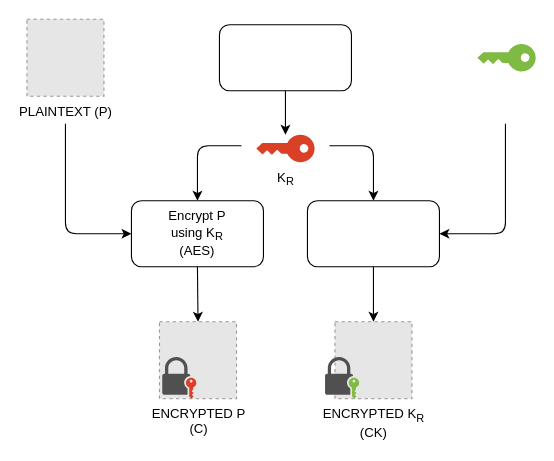
Image size: 554x461. Some labels were removed from this diagram. Grey dashed boxes stand in for pictures. The centre of each missing label's shape, as x and y in pixels:
"Encrypt K R using K G (AES)" goes at [372,233].
"Generate Random Key (K R )" goes at [284,57].
"K G" goes at [506,57].
